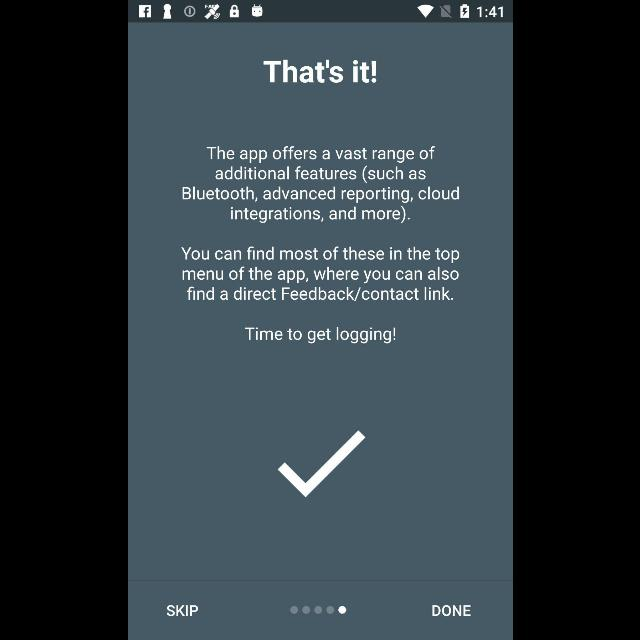image: (276, 430, 366, 498)
pageindicator: (290, 606, 346, 614)
text: (182, 146, 458, 224), (179, 246, 459, 300), (243, 326, 394, 344), (262, 61, 376, 84), (432, 605, 471, 617), (166, 604, 198, 616)
uppertaskbar: (128, 1, 512, 23)
